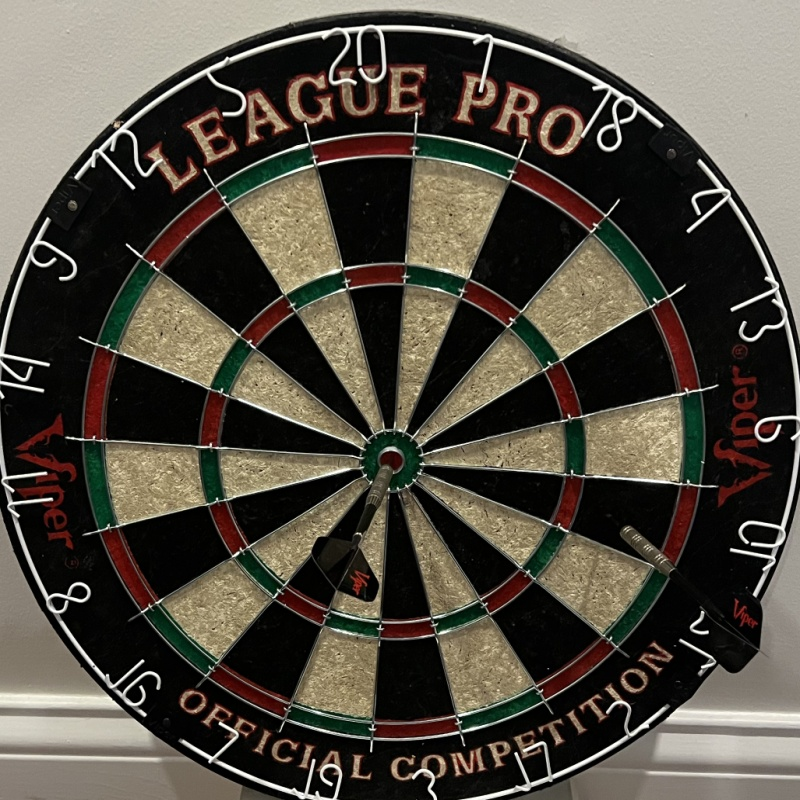dart: (376, 459, 397, 482), (614, 522, 636, 542)
eleven: (1, 468, 53, 517)
six: (754, 415, 800, 443)
twenty: (322, 25, 386, 85)
